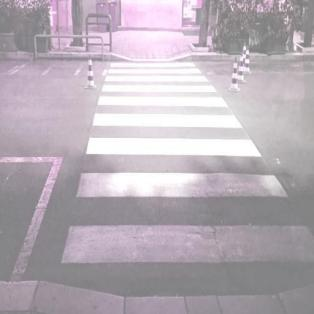Paso de Cebra: (82, 109, 264, 161), (99, 78, 218, 98), (103, 58, 204, 73)
